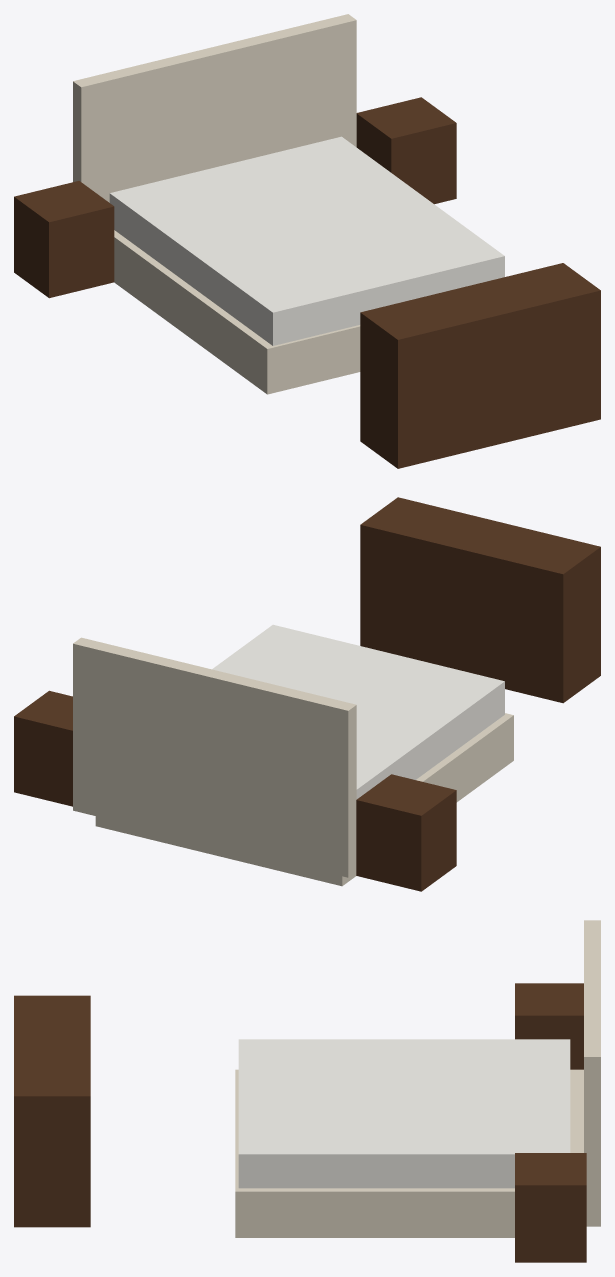
The model's file is recamara-venecia.glb.
The picture shows the model from 3 angles, top to bottom: view 1: azimuth 30°, elevation 25°; view 2: azimuth 150°, elevation 25°; view 3: azimuth 270°, elevation 25°; orthographic projection.
Parts seen in each view (by area): view 1: recamara-venecia; view 2: recamara-venecia; view 3: recamara-venecia.
Part boxes in pixels (x1,y1,x2,y2): recamara-venecia: [14, 14, 600, 468]; recamara-venecia: [14, 497, 600, 891]; recamara-venecia: [14, 920, 600, 1262].
Size of the model in its own units: 2.81 by 1.22 by 3.45.
